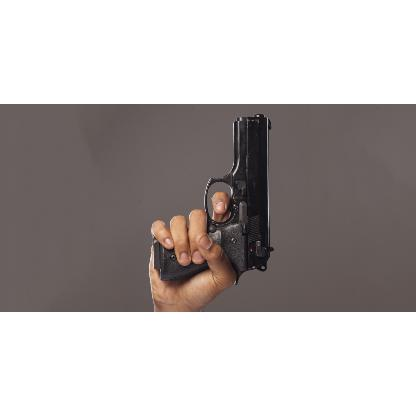gun: (152, 113, 270, 281)
